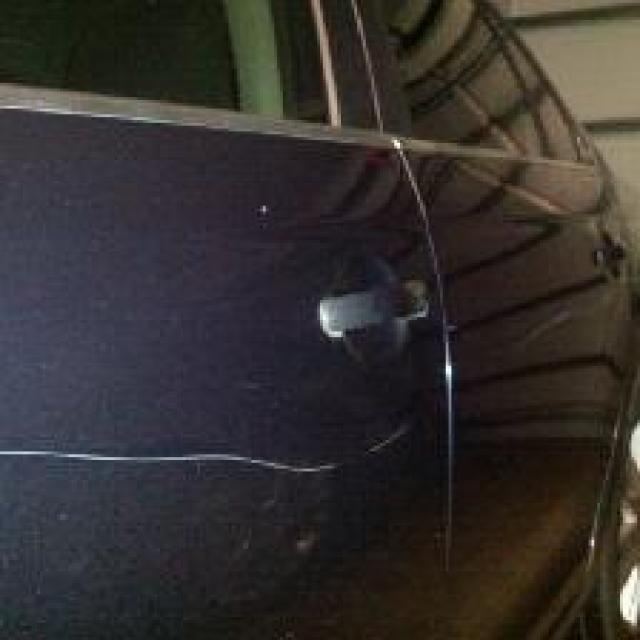damaged: (0, 423, 446, 486)
